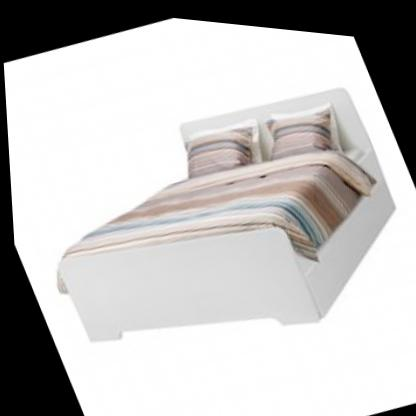Bed: (1, 11, 416, 416)
